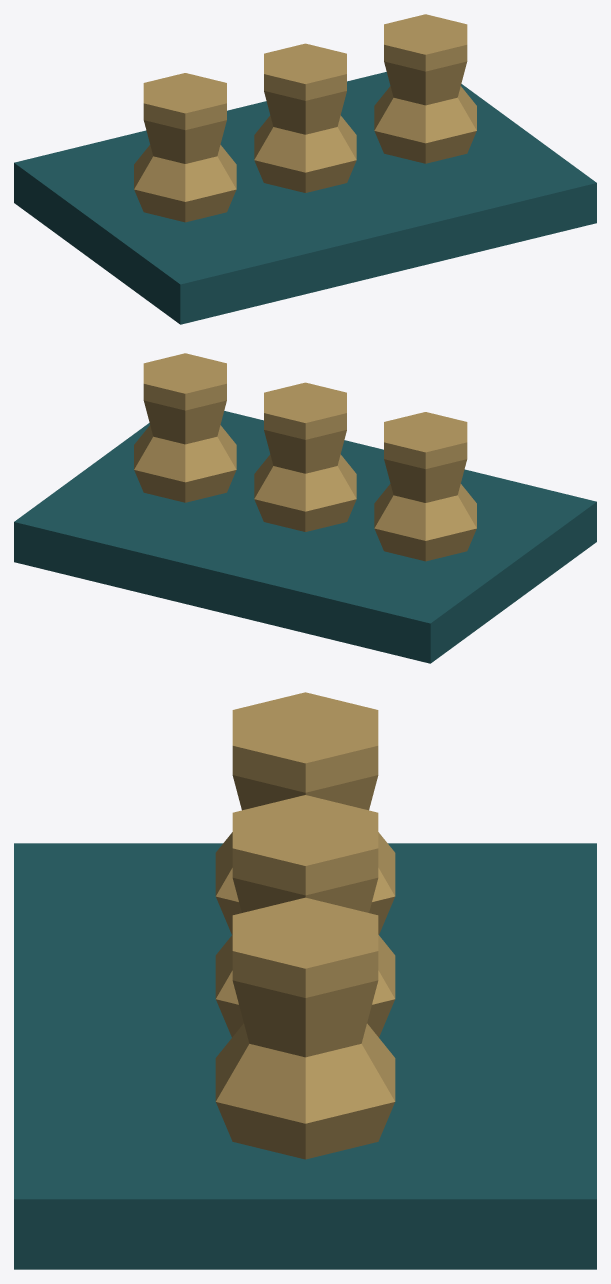
The model's file is VIC_L07_PRESENTATION_SET_Roblox.fbx.
3 views of the same model, one above another, from view 1: azimuth 30°, elevation 25°; view 2: azimuth 150°, elevation 25°; view 3: azimuth 270°, elevation 25° (orthographic). The views are drawn at different scales.
Parts seen in each view (by area): view 1: VIC_L07_PRESENTATION_SET__Teal, VIC_L07_PRESENTATION_SET__Brass; view 2: VIC_L07_PRESENTATION_SET__Teal, VIC_L07_PRESENTATION_SET__Brass; view 3: VIC_L07_PRESENTATION_SET__Teal, VIC_L07_PRESENTATION_SET__Brass.
Part boxes in pixels (bbox=[...]): VIC_L07_PRESENTATION_SET__Teal: bbox=[14, 72, 596, 324]; VIC_L07_PRESENTATION_SET__Brass: bbox=[134, 14, 476, 222]; VIC_L07_PRESENTATION_SET__Teal: bbox=[14, 411, 596, 663]; VIC_L07_PRESENTATION_SET__Brass: bbox=[134, 353, 476, 561]; VIC_L07_PRESENTATION_SET__Teal: bbox=[14, 843, 596, 1269]; VIC_L07_PRESENTATION_SET__Brass: bbox=[215, 692, 395, 1159].
Bounding box in the file's own units: 2.6 × 0.89 × 1.8.
